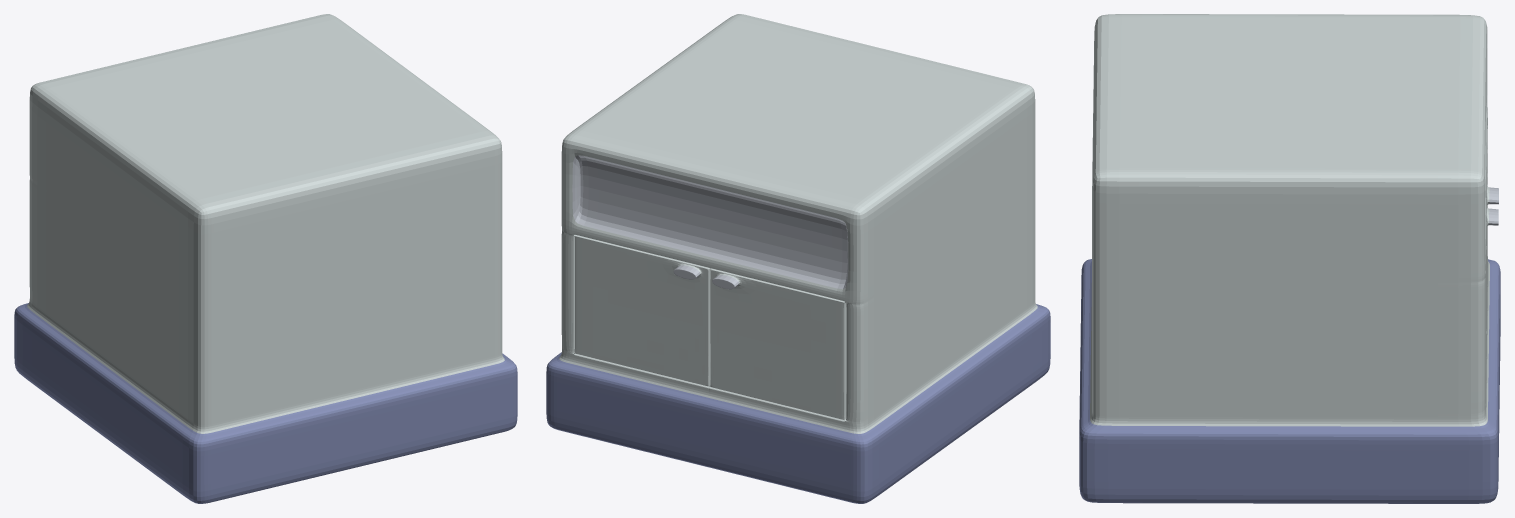
The model's file is Simple_Stuff(Blue).fbx.
The picture shows the model from 3 angles, left to right: view 1: azimuth 30°, elevation 25°; view 2: azimuth 150°, elevation 25°; view 3: azimuth 270°, elevation 25°; orthographic projection. The views are drawn at different scales.
Visible parts, largest first — view 1: 큐브.047; view 2: 큐브.047; view 3: 큐브.047.
Part boxes in pixels (x1=…): 큐브.047: x1=14, y1=14, x2=517, y2=503; 큐브.047: x1=546, y1=14, x2=1050, y2=503; 큐브.047: x1=1079, y1=14, x2=1500, y2=503.
Bounding box in the file's own units: 316 × 269 × 317.
